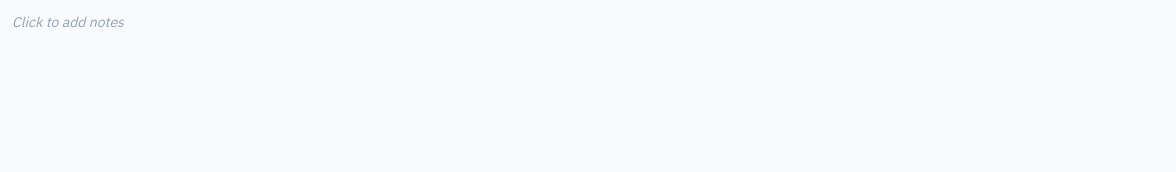
NotesCell R5 inline edit contract › clicking trigger enters edit mode
Click the button with test id "notes-cell-trigger" at (68, 22), box left=12, top=12, right=124, bottom=32
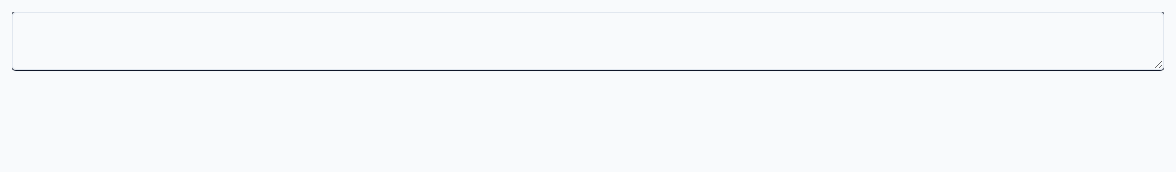
Expected: the text box with test id "notes-cell-input" is shown, left=12, top=12, right=1164, bottom=70
